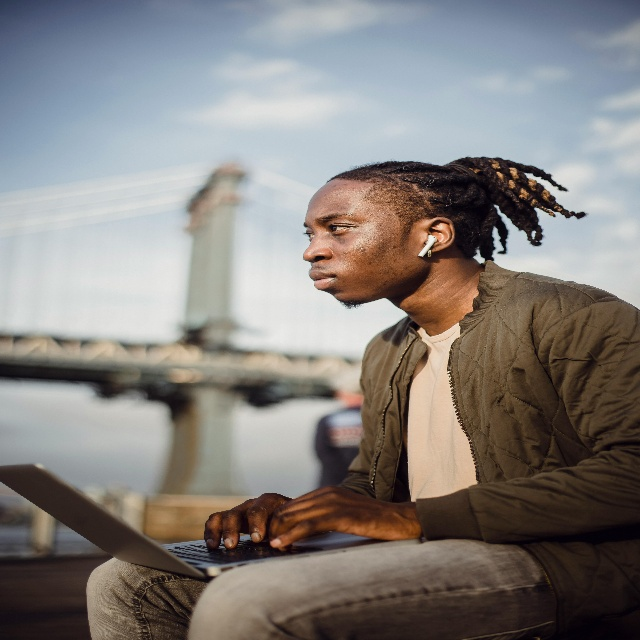Sin_guantes: (271, 487, 418, 541), (204, 492, 288, 542)
